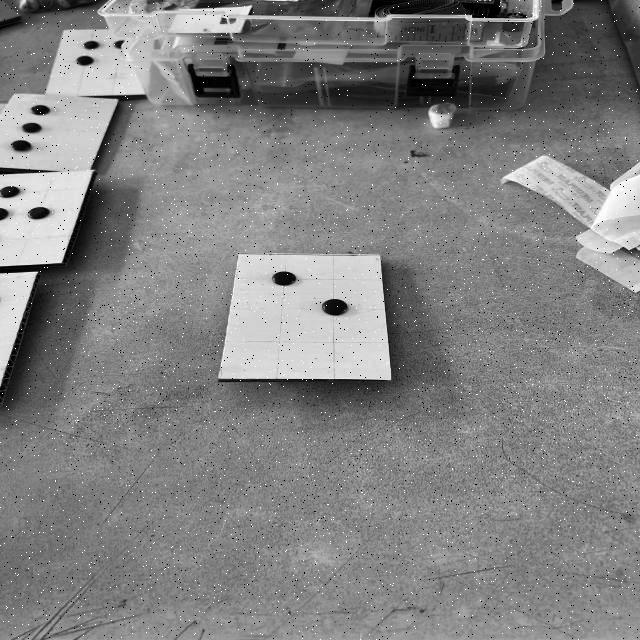E: (221, 254, 390, 380)
L: (1, 92, 118, 172)
